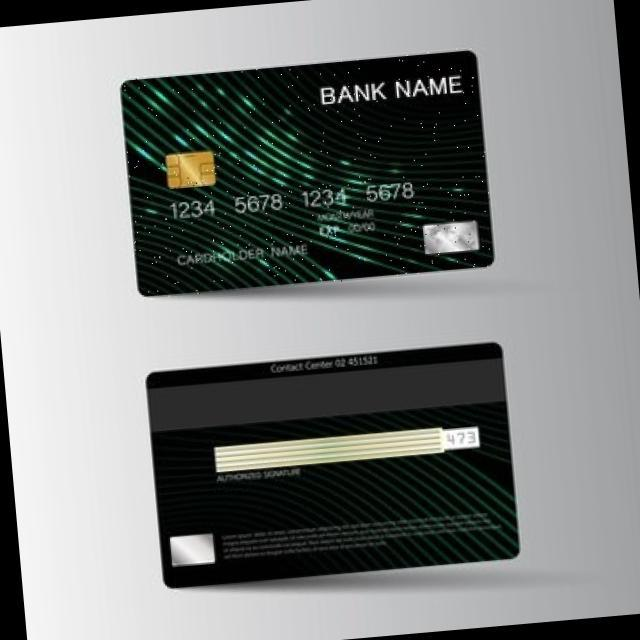payment_card: (144, 340, 522, 587), (119, 49, 495, 296)
